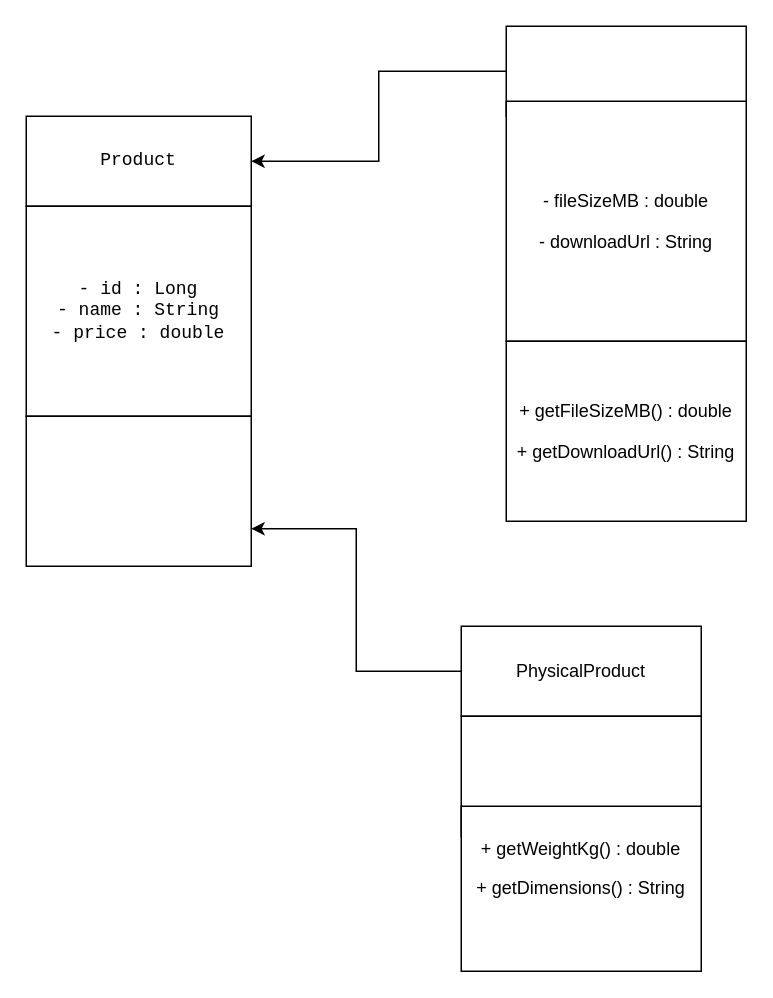
The diagram is 773 pixels wide and 998 high, and some of its shapes have lost their labels. The centre of each missing label's shape, as x and y in pixels:
+ getId() : Long + getName() : String + getPrice() : double: point (138, 490)
- weightKg : double - dimensions : String: point (580, 775)
DigitalProduct: point (625, 70)
